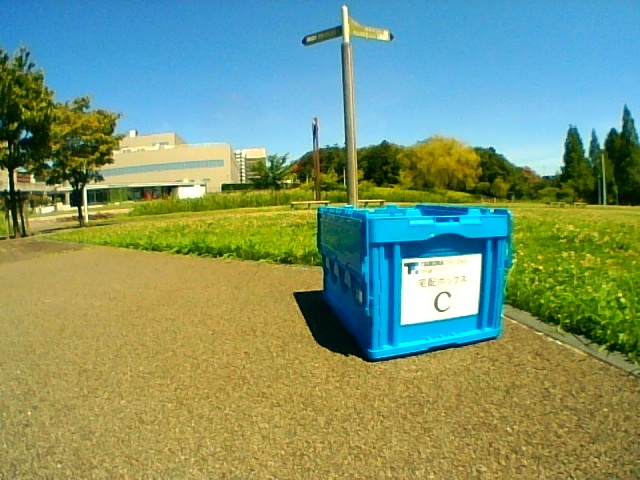blue_box: (344, 208, 501, 336)
tag_c: (410, 265, 470, 315)
